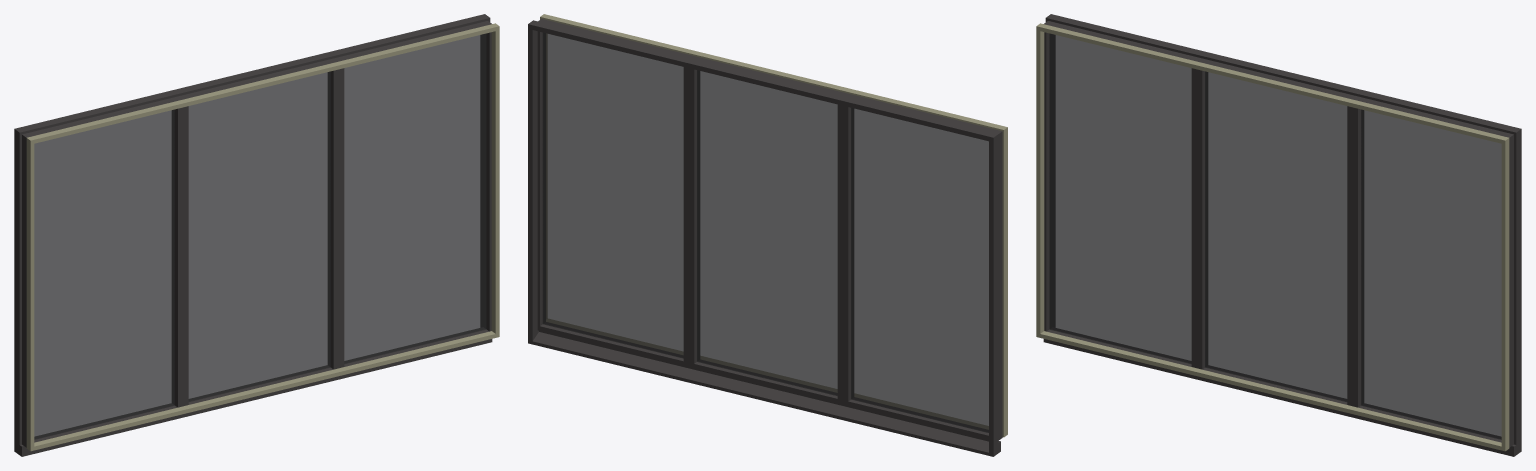
File: window4.FBX
3 renders of one model, left to right at view 1: azimuth 30°, elevation 25°; view 2: azimuth 150°, elevation 25°; view 3: azimuth 330°, elevation 25°, orthographic.
Visible parts, largest first — view 1: 131:5:4; view 2: 131:5:4; view 3: 131:5:4.
Part boxes in pixels (x1,y1,x2,y2): 131:5:4: (14,14,499,456); 131:5:4: (528,14,1007,456); 131:5:4: (1036,14,1521,456).
Bounding box in the file's own units: 122 × 79.72 × 6.89.
